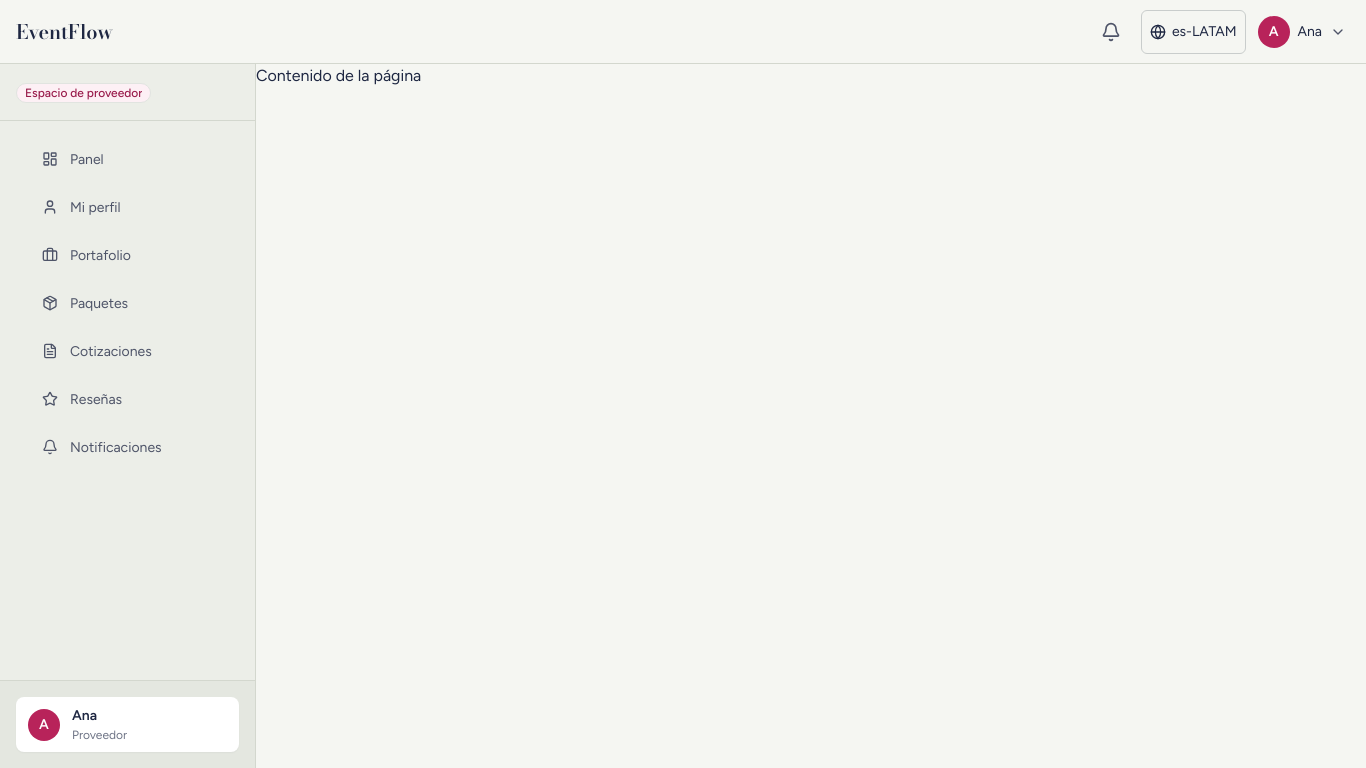
Test: <AuthenticatedShell> — estructura común › expone las acciones de cuenta comunes para vendor
This screenshot has width=1366, height=768.
Click the button named "Menú de usuario" at coordinates (1302, 32), box [1254,10,1350,54]
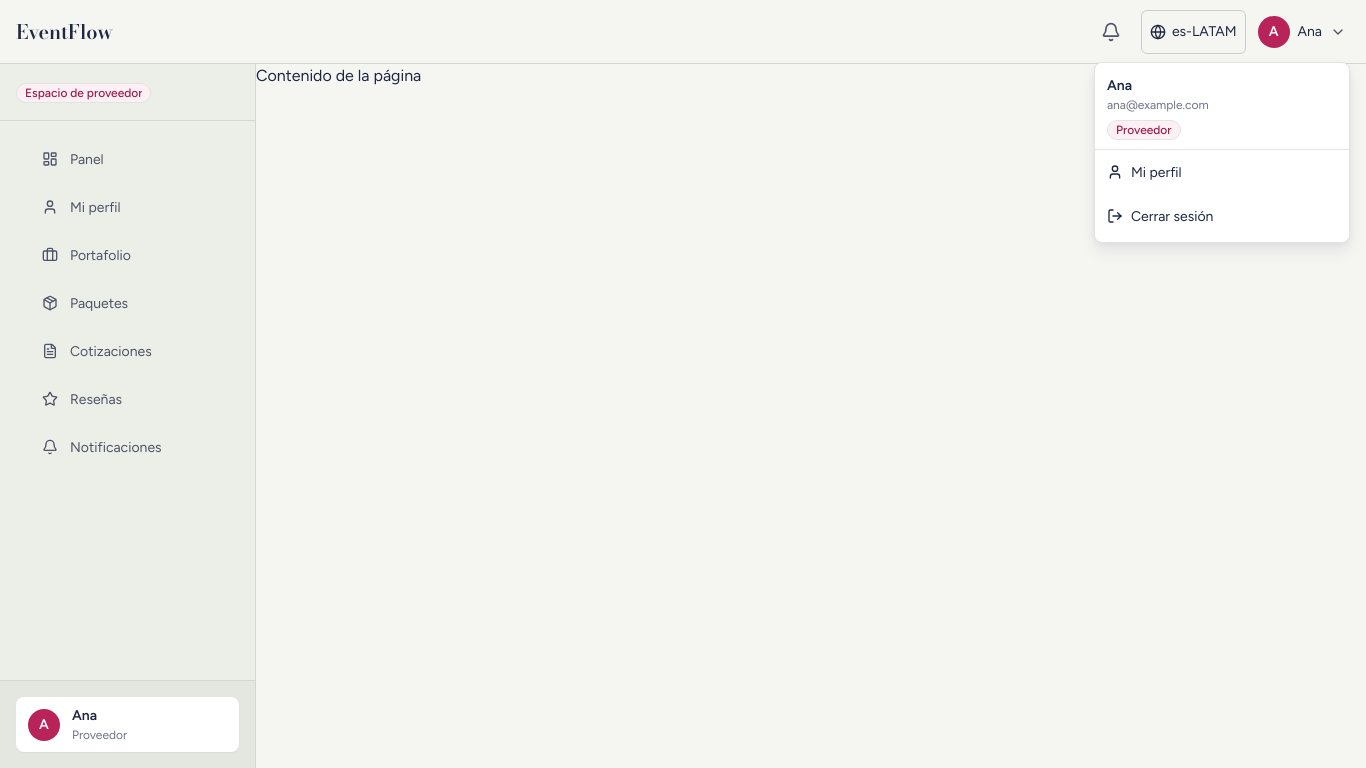
Expected: the menu item "Mi perfil" is shown, [1107,164,1182,180]
Expected: the menu item "Cerrar sesión" is shown, [1095,194,1349,238]
